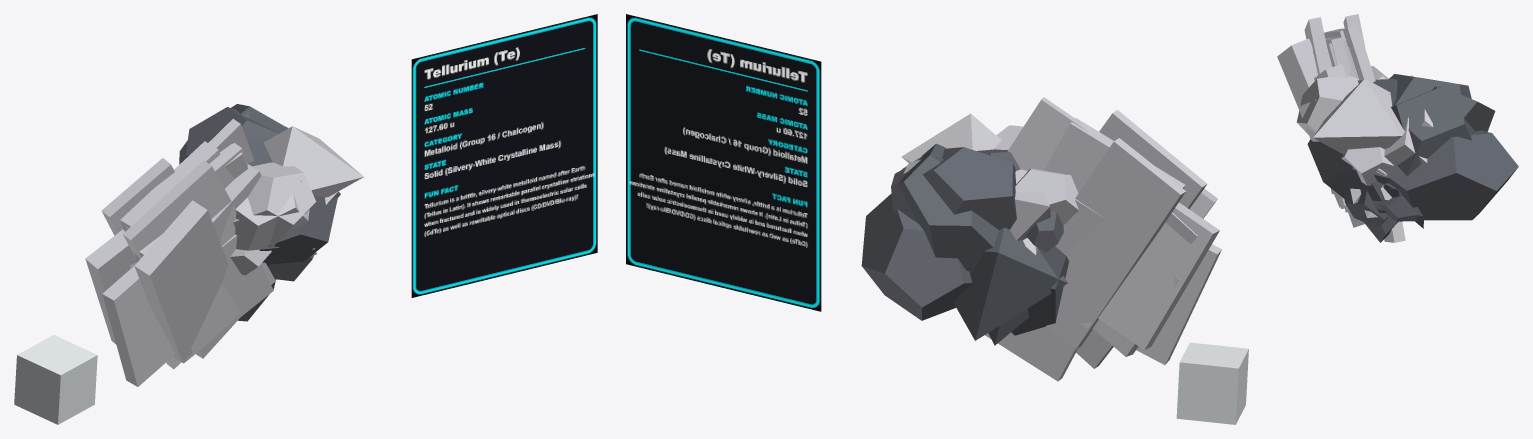
The model's file is tellurium.glb.
3 renders of one model, left to right at view 1: azimuth 30°, elevation 25°; view 2: azimuth 150°, elevation 25°; view 3: azimuth 270°, elevation 25°, orthographic. The views are drawn at different scales.
Visible parts, largest first — view 1: Mesh_79, Mesh_0, Mesh_78, Mesh_10, Mesh_15, Mesh_31, Mesh_19, Mesh_35, Mesh_4, Mesh_17, Mesh_49, Mesh_14 (+8 smaller); view 2: Mesh_79, Mesh_14, Mesh_33, Mesh_4, Mesh_50, Mesh_52, Mesh_78, Mesh_45, Mesh_13, Mesh_1, Mesh_9, Mesh_10 (+8 smaller); view 3: Mesh_33, Mesh_31, Mesh_52, Mesh_45, Mesh_35, Mesh_19, Mesh_0, Mesh_32, Mesh_10, Mesh_1, Mesh_20, Mesh_48 (+8 smaller).
Boxes of the visible parts, x1,y1,x2,y2 form: Mesh_79: (411,14,597,297); Mesh_0: (134,200,228,362); Mesh_78: (14,335,97,424); Mesh_10: (123,160,275,354); Mesh_15: (102,266,175,386); Mesh_31: (263,126,363,197); Mesh_19: (233,162,316,247); Mesh_35: (247,137,337,264); Mesh_4: (85,229,136,344); Mesh_17: (181,234,273,363); Mesh_49: (235,193,309,250); Mesh_14: (101,158,174,235); Mesh_79: (626,14,821,311); Mesh_14: (1046,138,1185,349); Mesh_33: (861,193,972,320); Mesh_4: (1098,202,1219,349); Mesh_50: (953,227,1067,340); Mesh_52: (891,147,1016,230); Mesh_78: (1176,342,1248,424); Mesh_45: (898,143,999,272); Mesh_13: (963,199,1105,381); Mesh_1: (1007,97,1087,170); Mesh_9: (1044,118,1185,193); Mesh_10: (1099,110,1207,209); Mesh_33: (1388,130,1518,220); Mesh_31: (1313,78,1404,154); Mesh_52: (1389,74,1474,176); Mesh_45: (1391,86,1495,131); Mesh_35: (1307,79,1397,198); Mesh_19: (1296,76,1359,134); Mesh_0: (1277,38,1340,207); Mesh_32: (1341,147,1393,185); Mesh_10: (1304,17,1344,208); Mesh_1: (1343,25,1375,82); Mesh_20: (1344,189,1388,227); Mesh_48: (1384,117,1427,165).
Bounding box in the file's own units: 3.38 × 1.41 × 1.29.
4 materials, 1 textured.
